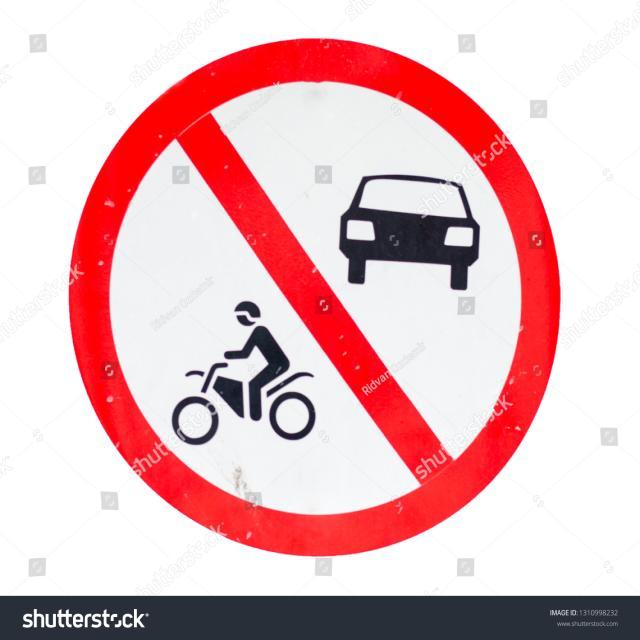all motor vehicle prohibited: (58, 35, 567, 558)
